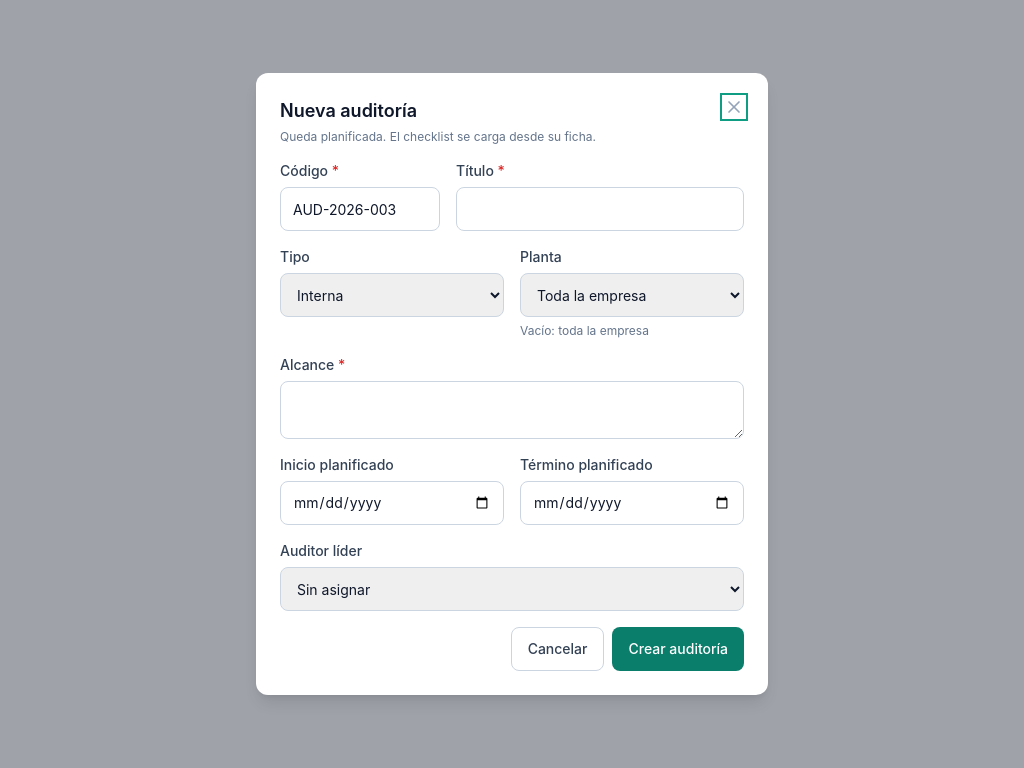
crear una auditoría › sin título ni alcance no manda nada
Click the button "Crear auditoría" at {"x": 678, "y": 649}, box [612, 627, 744, 671]
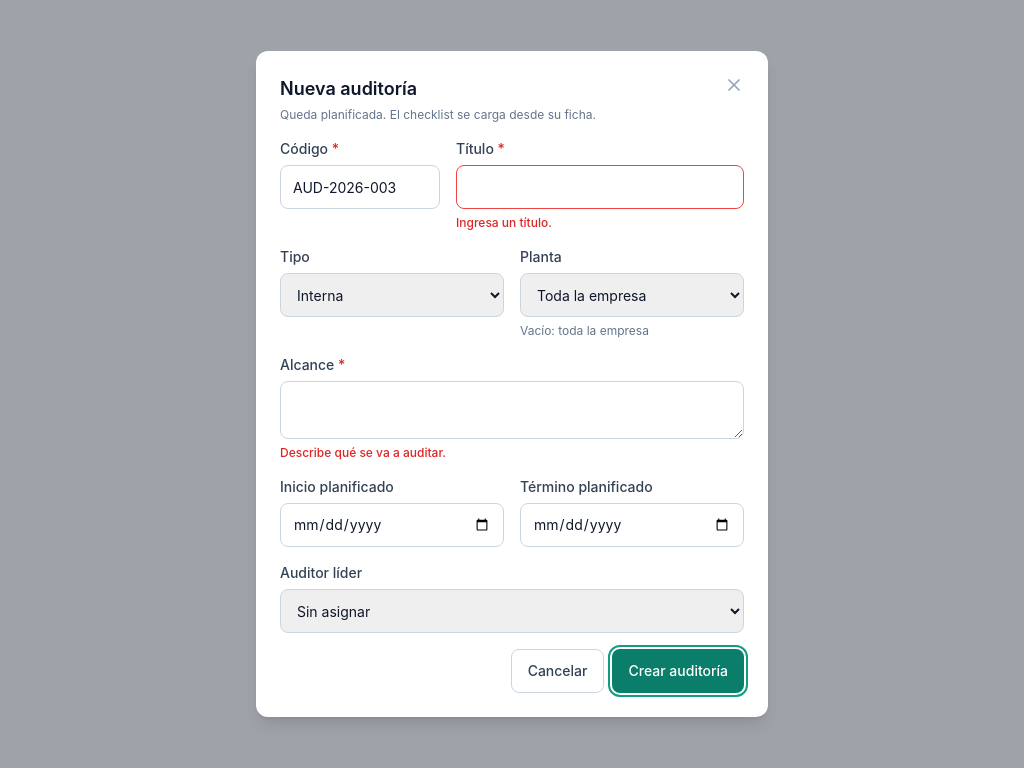
expect the text "Ingresa un título." is shown: met, box [456, 215, 552, 230]
expect the text "Describe qué se va a auditar." is shown: met, box [280, 445, 446, 460]
